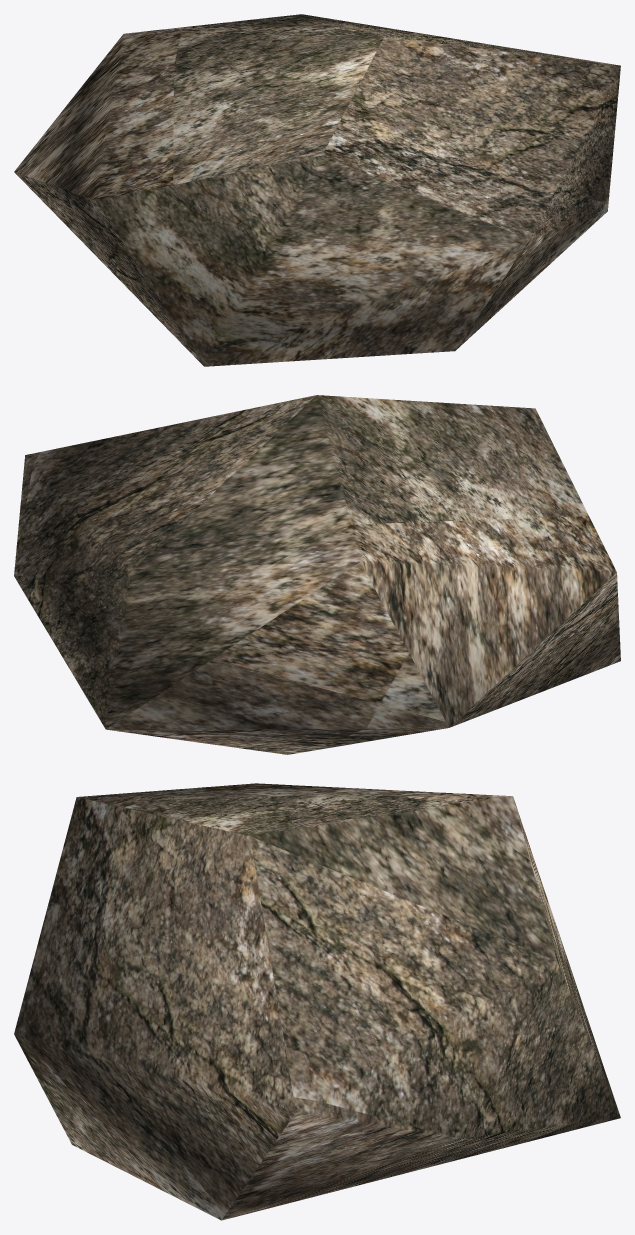
Rendered from Rock6_30.obj.
3 renders of one model, top to bottom at view 1: azimuth 30°, elevation 25°; view 2: azimuth 150°, elevation 25°; view 3: azimuth 270°, elevation 25°, orthographic. The views are drawn at different scales.
Visible parts, largest first — view 1: Icosphere.002; view 2: Icosphere.002; view 3: Icosphere.002.
Part boxes in pixels (x1,y1,x2,y2): Icosphere.002: (14, 14, 620, 366); Icosphere.002: (14, 395, 620, 754); Icosphere.002: (14, 783, 620, 1220).
Size of the model in its own units: 2.65 by 1.37 by 2.14.
